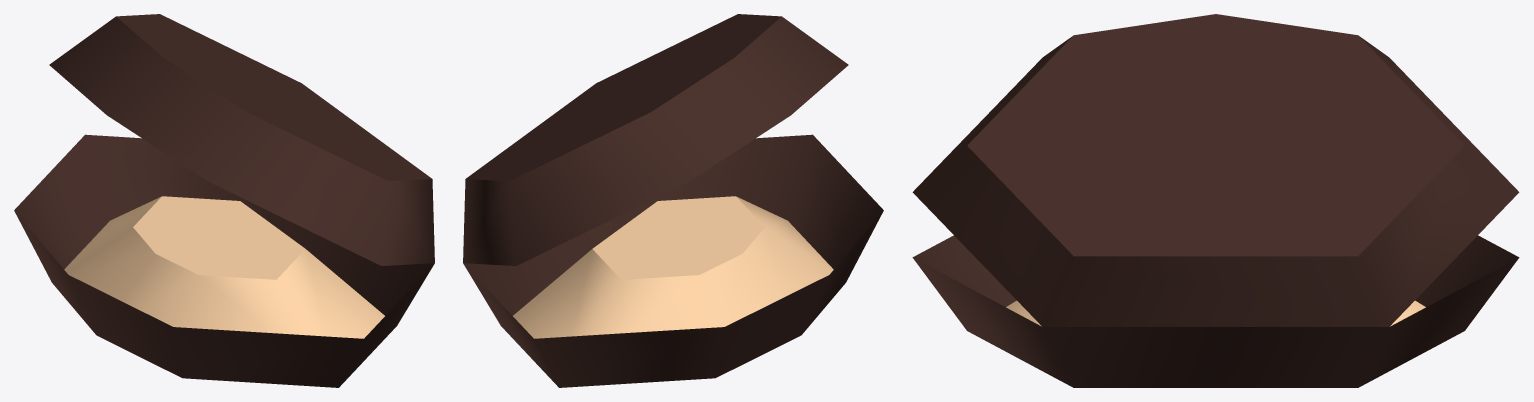
File: musselOpen.GLB
3 views of the same model, side by side, from view 1: azimuth 30°, elevation 25°; view 2: azimuth 150°, elevation 25°; view 3: azimuth 270°, elevation 25° (orthographic). The views are drawn at different scales.
Parts seen in each view (by area): view 1: musselOpen; view 2: musselOpen; view 3: musselOpen.
Boxes of the visible parts, x1,y1,x2,y2 form: musselOpen: [14, 14, 434, 387]; musselOpen: [463, 14, 883, 387]; musselOpen: [912, 14, 1519, 387].
Bounding box in the file's own units: 0.0961 × 0.0804 × 0.1554.
